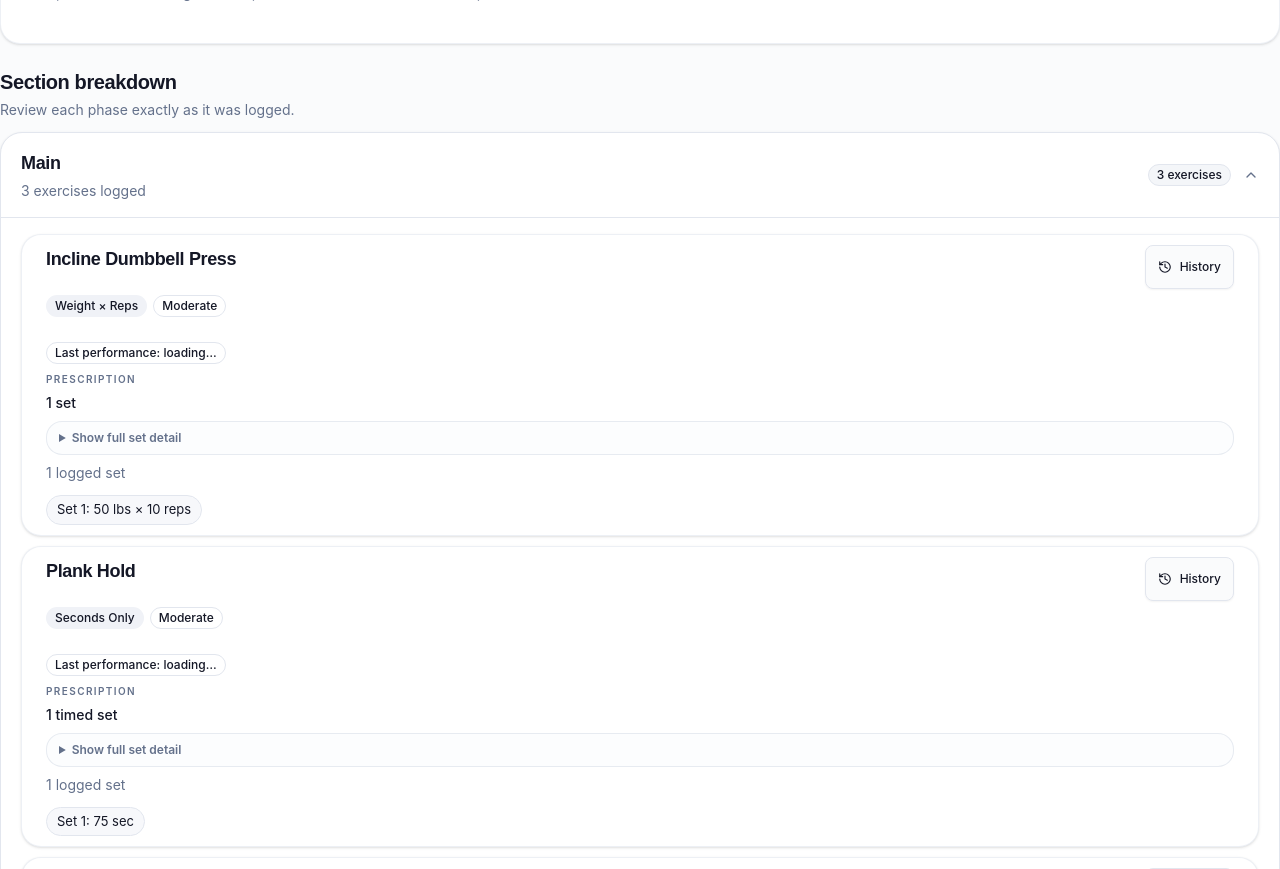
Test: SessionDetail › renders completed-mode set rows with actual logged values across tracking types
(page scrolled)
Click the heading "Show full set detail" below "1 set": click(127, 438) [72,430,181,445]
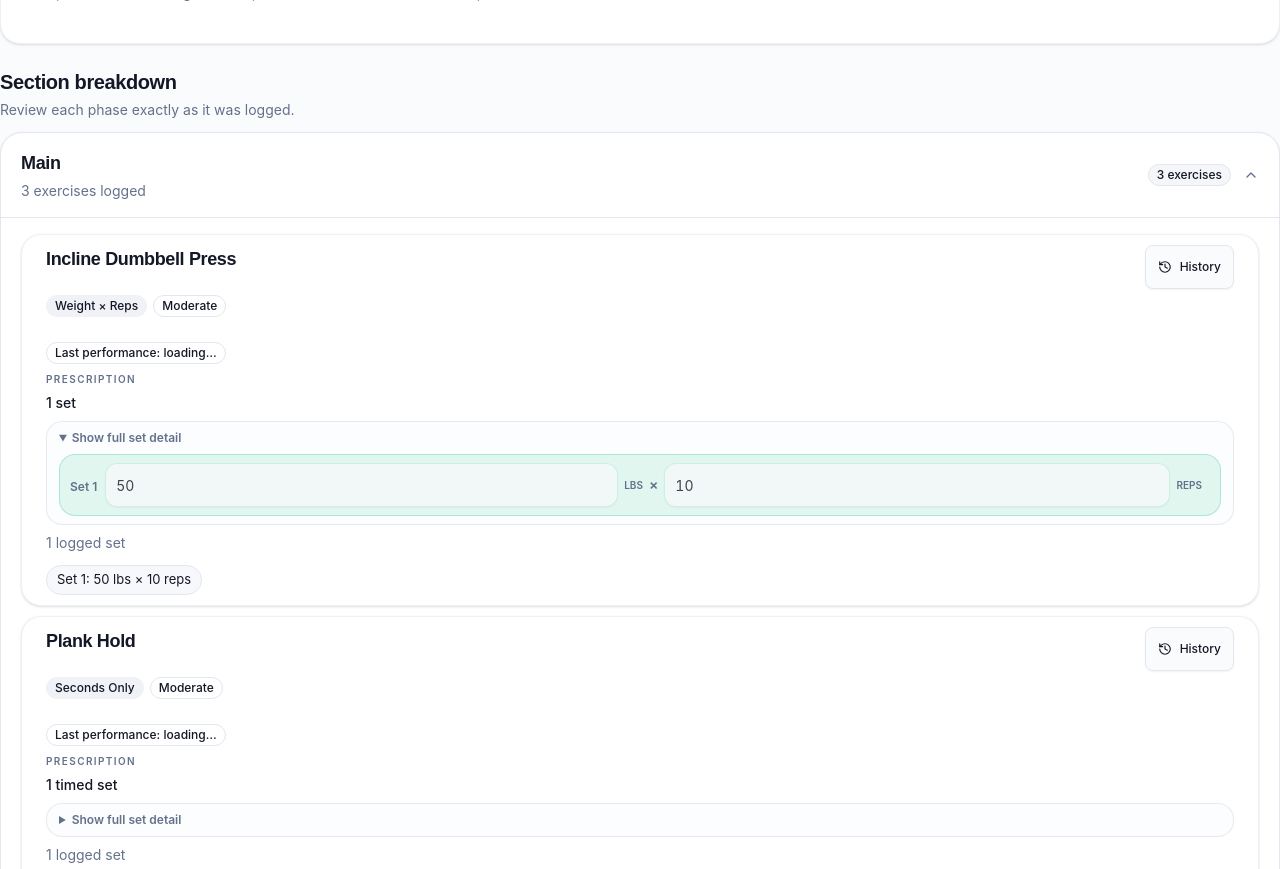
Check: the number field named "Weight for set 1" holds "50", box [105,463,618,507]
Check: the number field named "Reps for set 1" holds "10", box [664,463,1170,507]
Click the heading "Show full set detail" below "1 timed set": click(127, 819) [72,812,181,826]
(page scrolled)
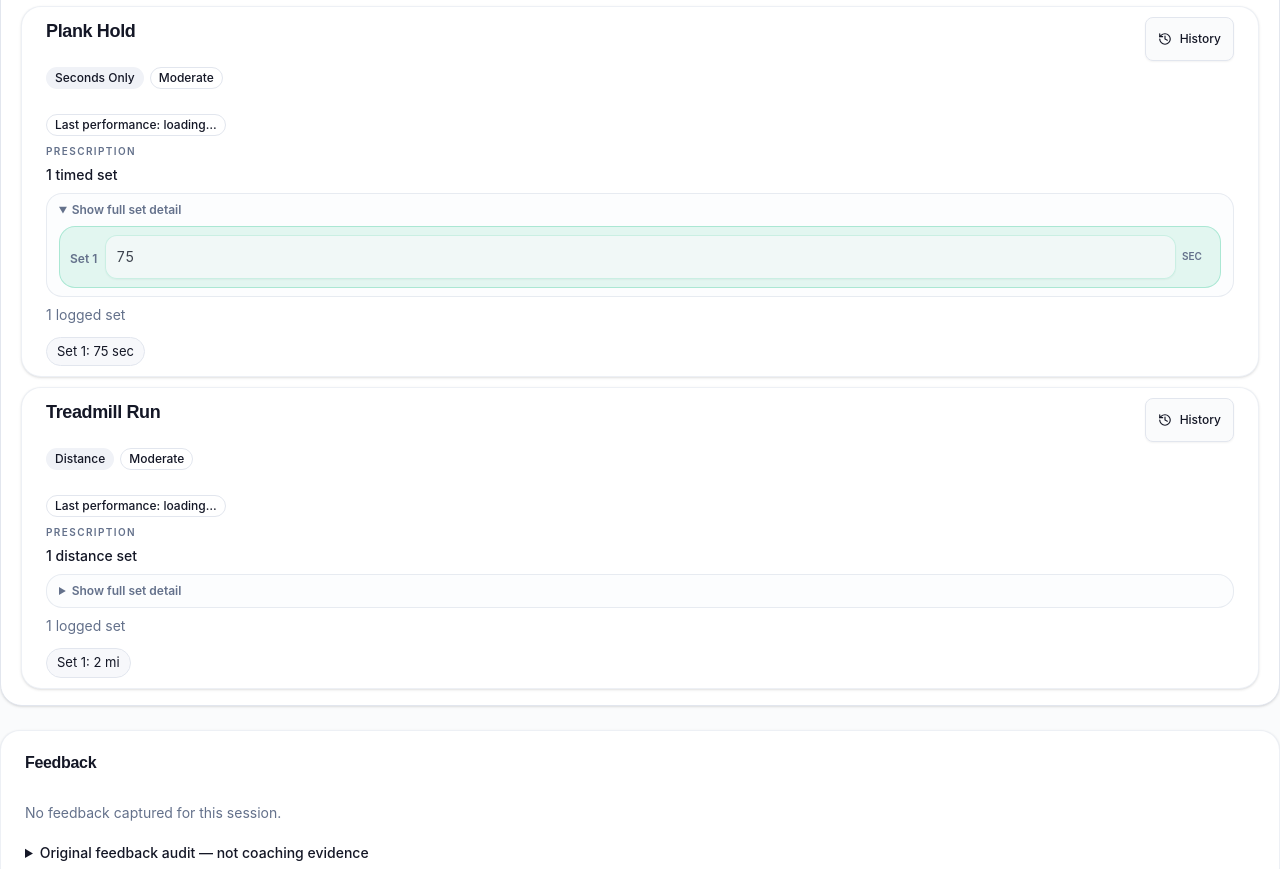
Check: the number field named "Seconds for set 1" holds "75", box [105,234,1176,278]
Click the heading "Show full set detail" below "1 distance set": click(127, 590) [72,583,181,598]
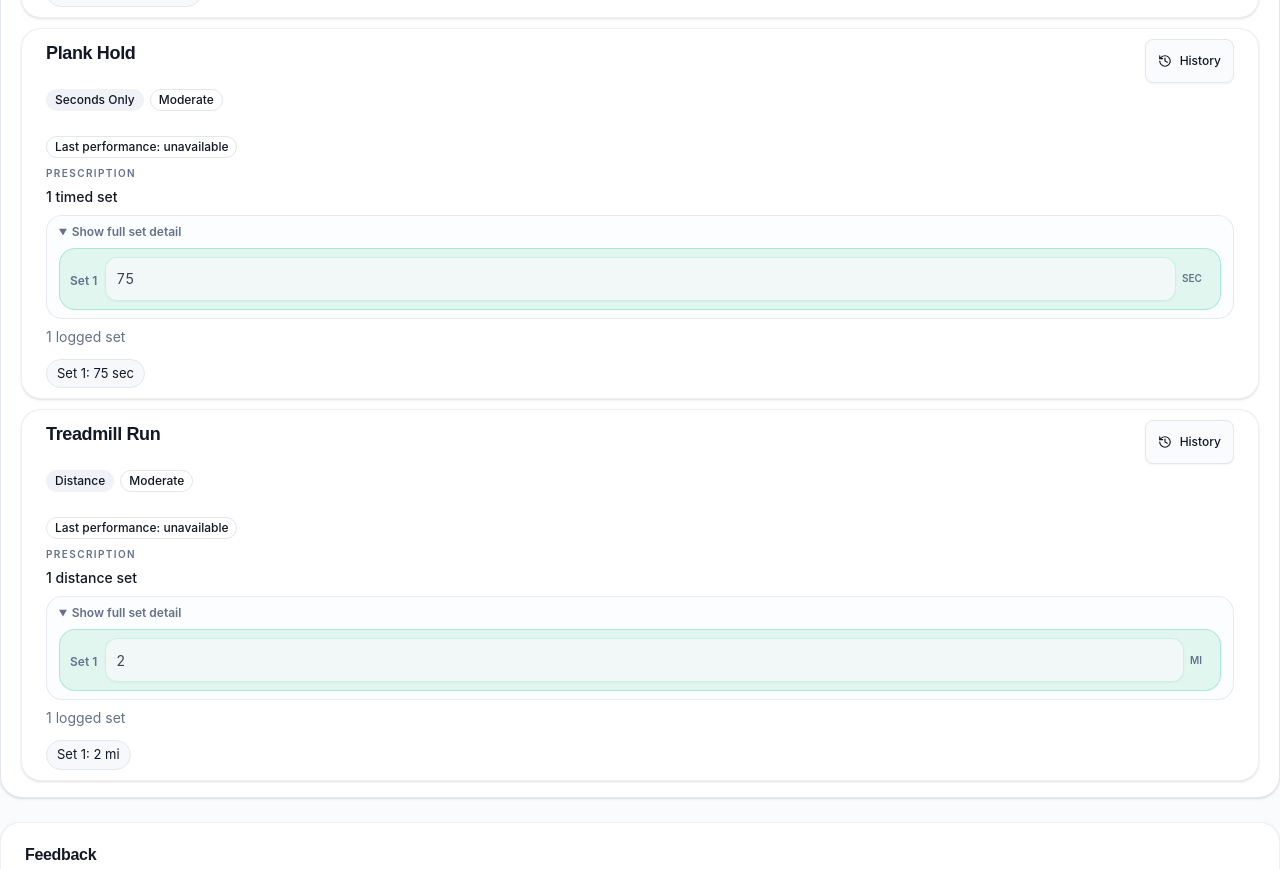
Check: the number field named "Distance for set 1" holds "2", box [105,638,1184,682]
